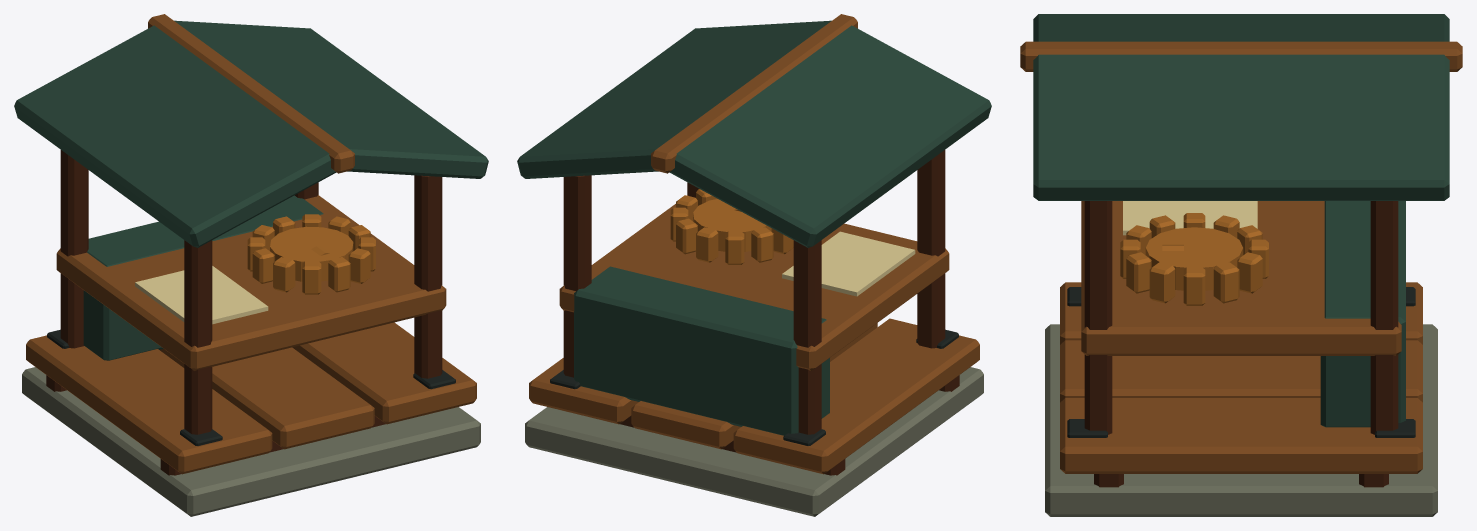
The model's file is assembler.glb.
The picture shows the model from 3 angles, left to right: view 1: azimuth 30°, elevation 25°; view 2: azimuth 150°, elevation 25°; view 3: azimuth 270°, elevation 25°; orthographic projection. The views are drawn at different scales.
Parts seen in each view (by area): view 1: assembler_body, Hub.004; view 2: assembler_body, Hub.004; view 3: assembler_body, Hub.004.
Boxes of the visible parts, box(x1,y1,x2,y2) form: assembler_body: box(14, 14, 488, 516); Hub.004: box(247, 214, 375, 294); assembler_body: box(517, 14, 991, 516); Hub.004: box(670, 189, 793, 264); assembler_body: box(1020, 14, 1462, 516); Hub.004: box(1120, 213, 1268, 305).
Size of the model in its own units: 1.87 by 2.02 by 2.07.
